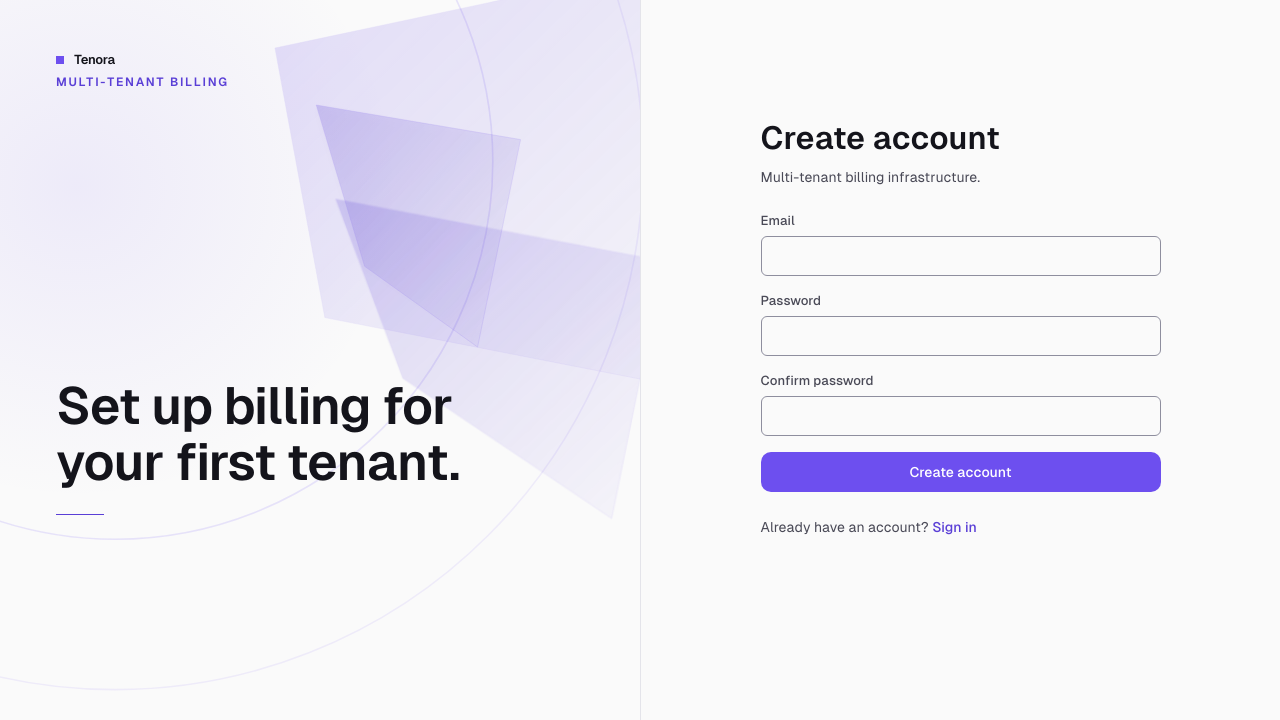
Test case: RegisterPage › renders the backend field error for a weak password inline
Expected: the heading "Create account" is shown, top-left (760, 120), bottom-right (1000, 156)
Type "new@example.com" into the field labelled "Email" at (960, 256), box top-left (760, 236), bottom-right (1160, 276)
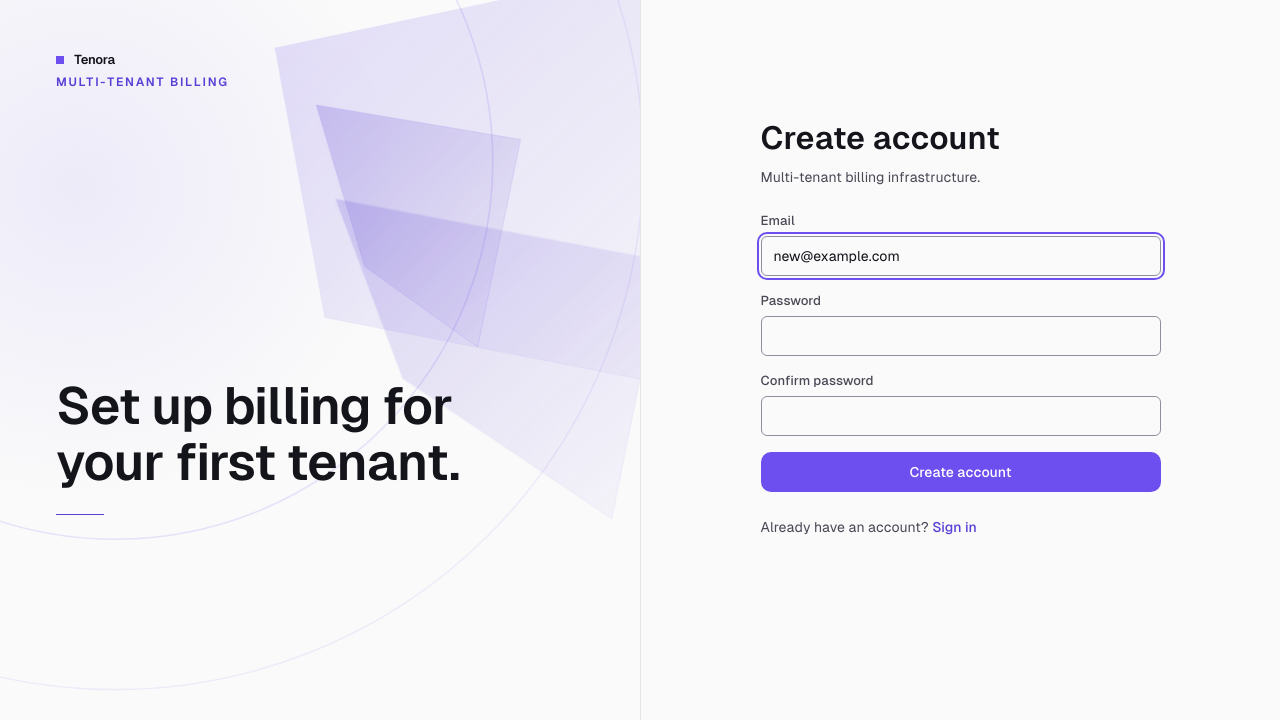
Type "correct-horse-staple-42" into the password field labelled "Password" at (960, 336), box top-left (760, 316), bottom-right (1160, 356)
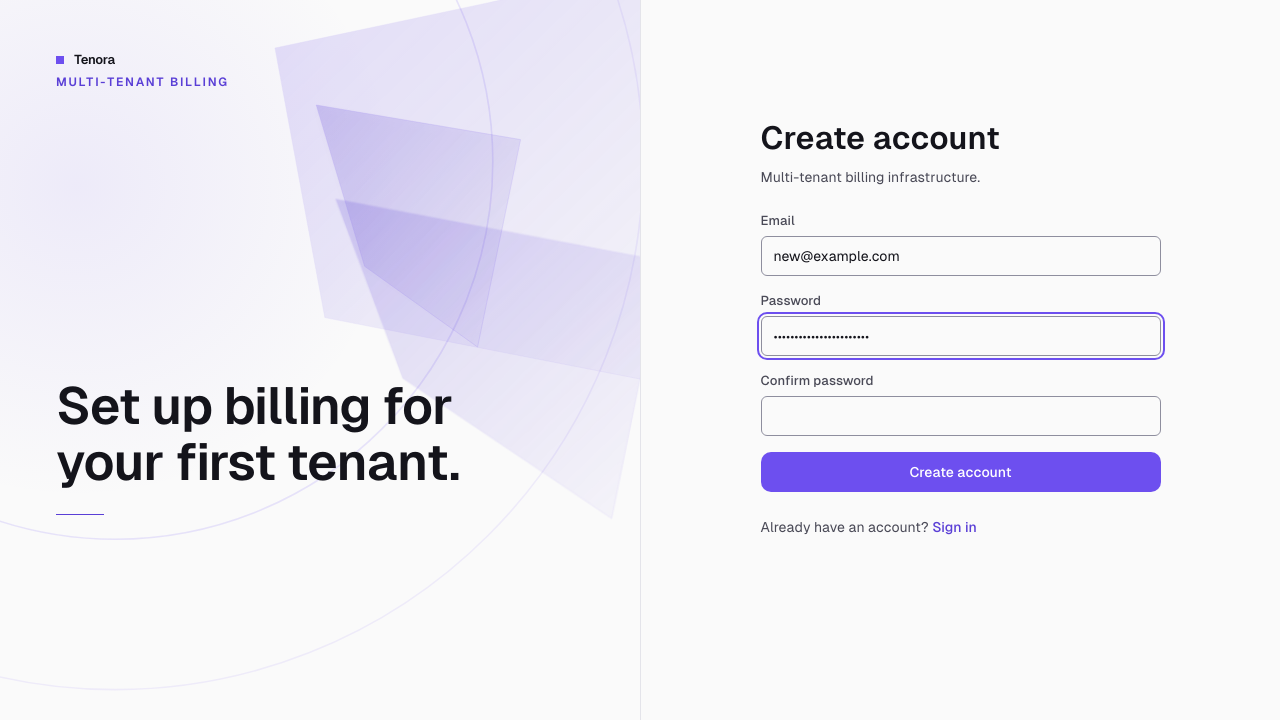
Type "correct-horse-staple-42" into the password field labelled "Confirm password" at (960, 416), box top-left (760, 396), bottom-right (1160, 436)
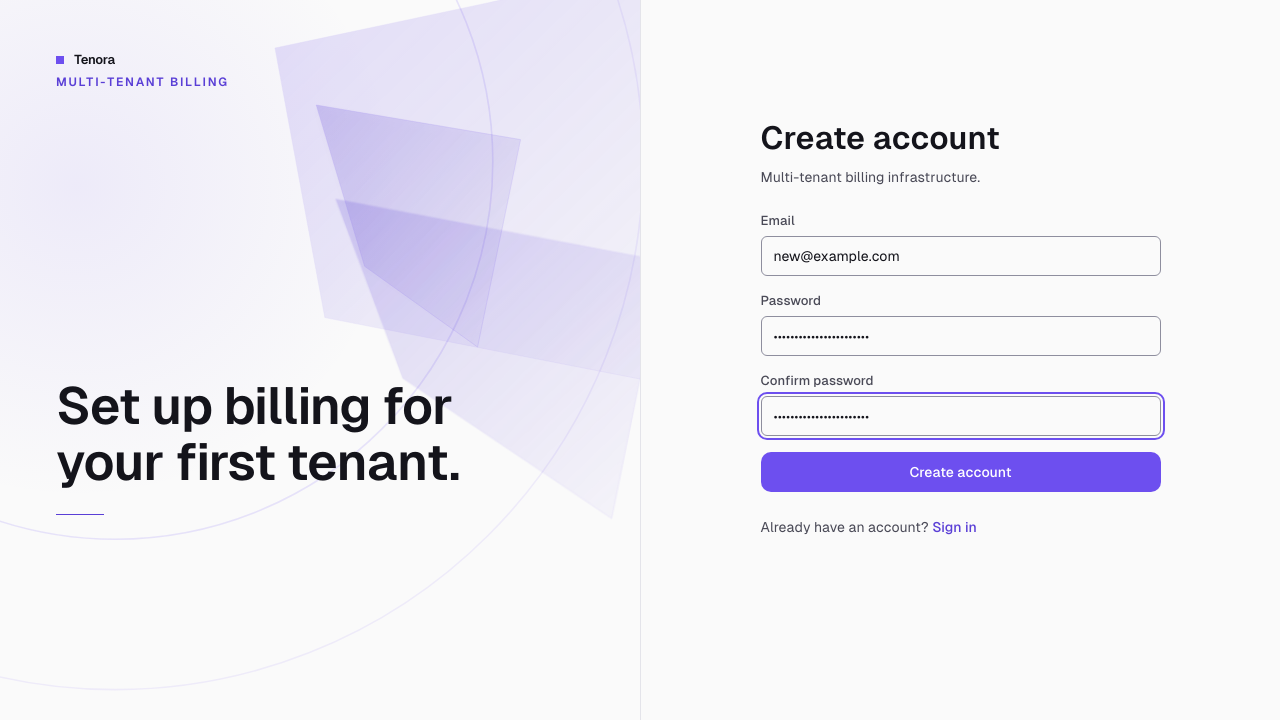
Click the button "Create account" at (960, 472), box top-left (760, 452), bottom-right (1160, 492)
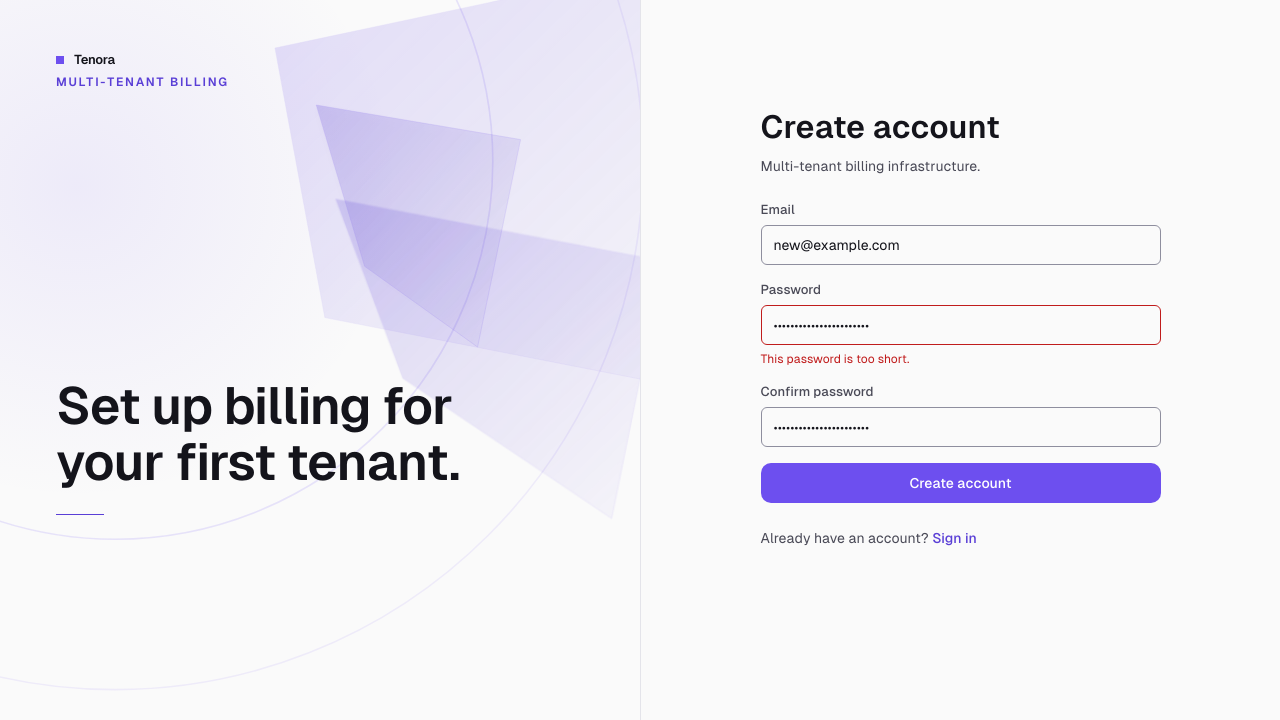
Result: the text "This password is too short." is shown at top-left (760, 352), bottom-right (910, 366)
